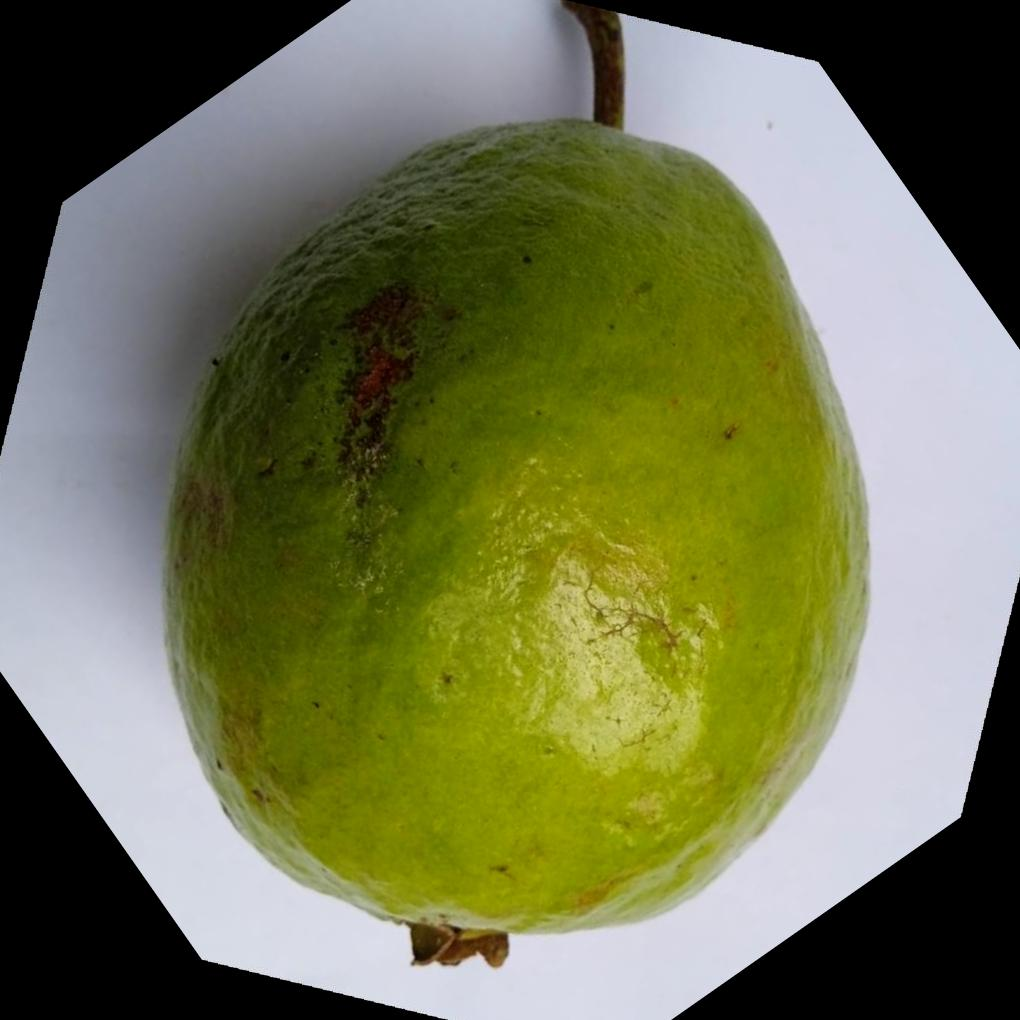FreshGuava: (162, 112, 877, 965)
